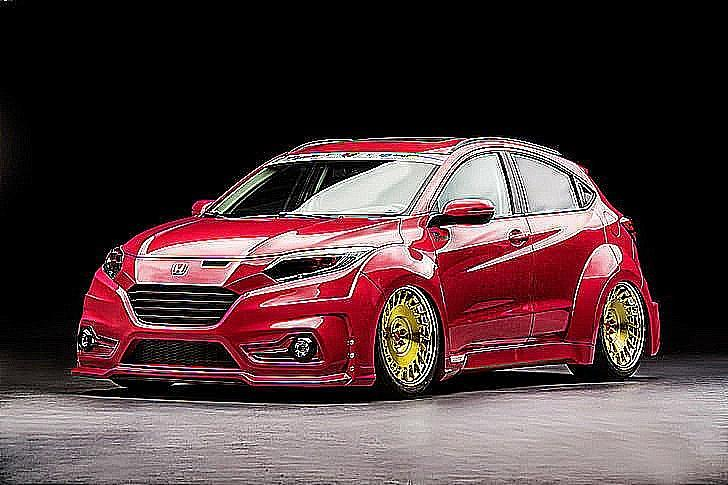Car hood: (117, 216, 405, 267)
Fender - -F-L-: (356, 204, 454, 359)
Fender - -R-L-: (577, 192, 646, 307)
Front bumper: (69, 269, 387, 395)
Headlight - -L-: (256, 244, 379, 289)
Headlight - -R-: (102, 244, 129, 281)
Passenger-s door - -F-L-: (418, 132, 539, 382)
Passenger-s door - -R-L-: (502, 129, 617, 371)
Side bumper - -L-: (443, 316, 604, 392)
Side mirror - -L-: (423, 197, 495, 234)
Side mirror - -R-: (187, 195, 214, 224)
